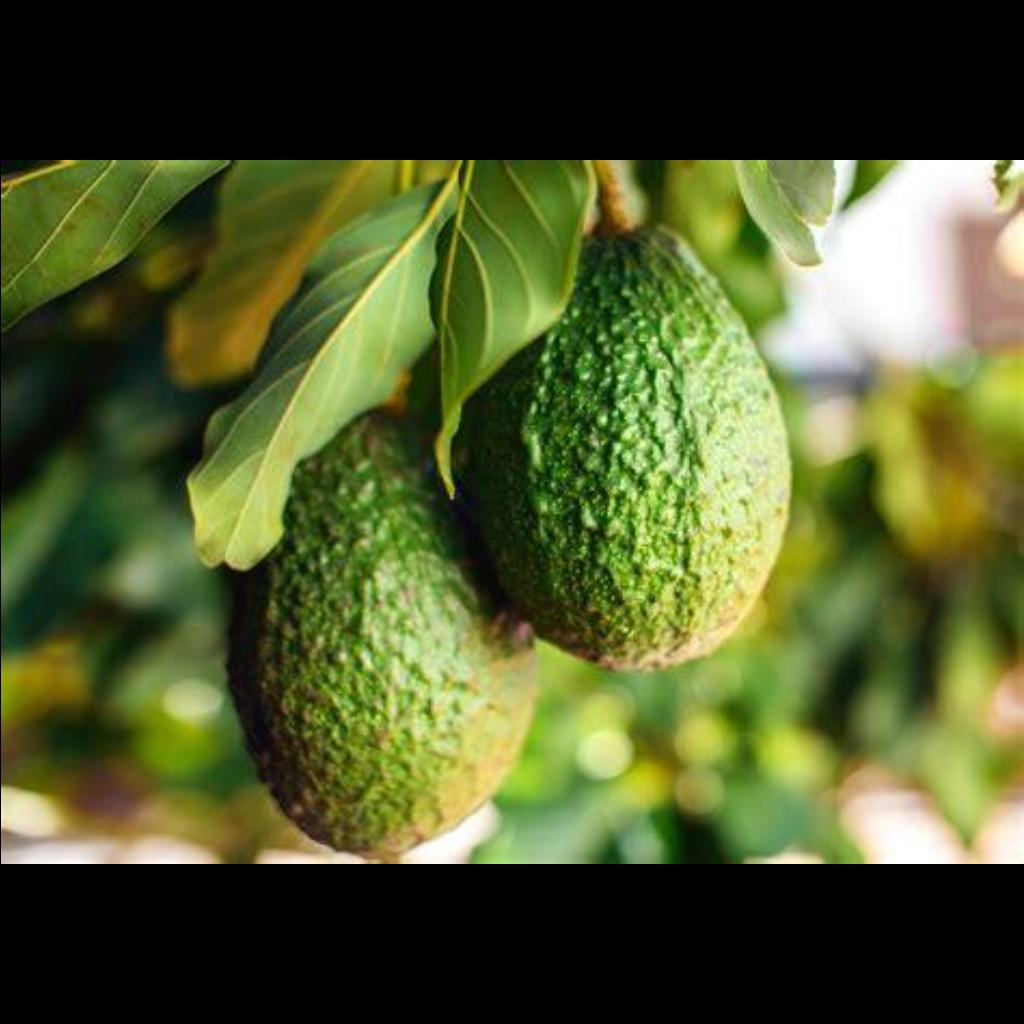fruto_sano: (477, 244, 817, 691), (188, 462, 480, 864)
